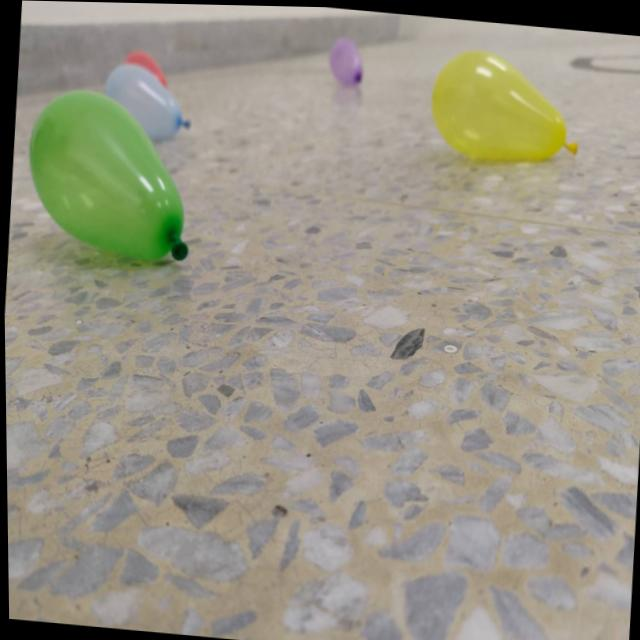other: (21, 86, 199, 269), (424, 42, 585, 168), (98, 60, 195, 144), (325, 33, 367, 86)
red: (122, 50, 169, 82)
